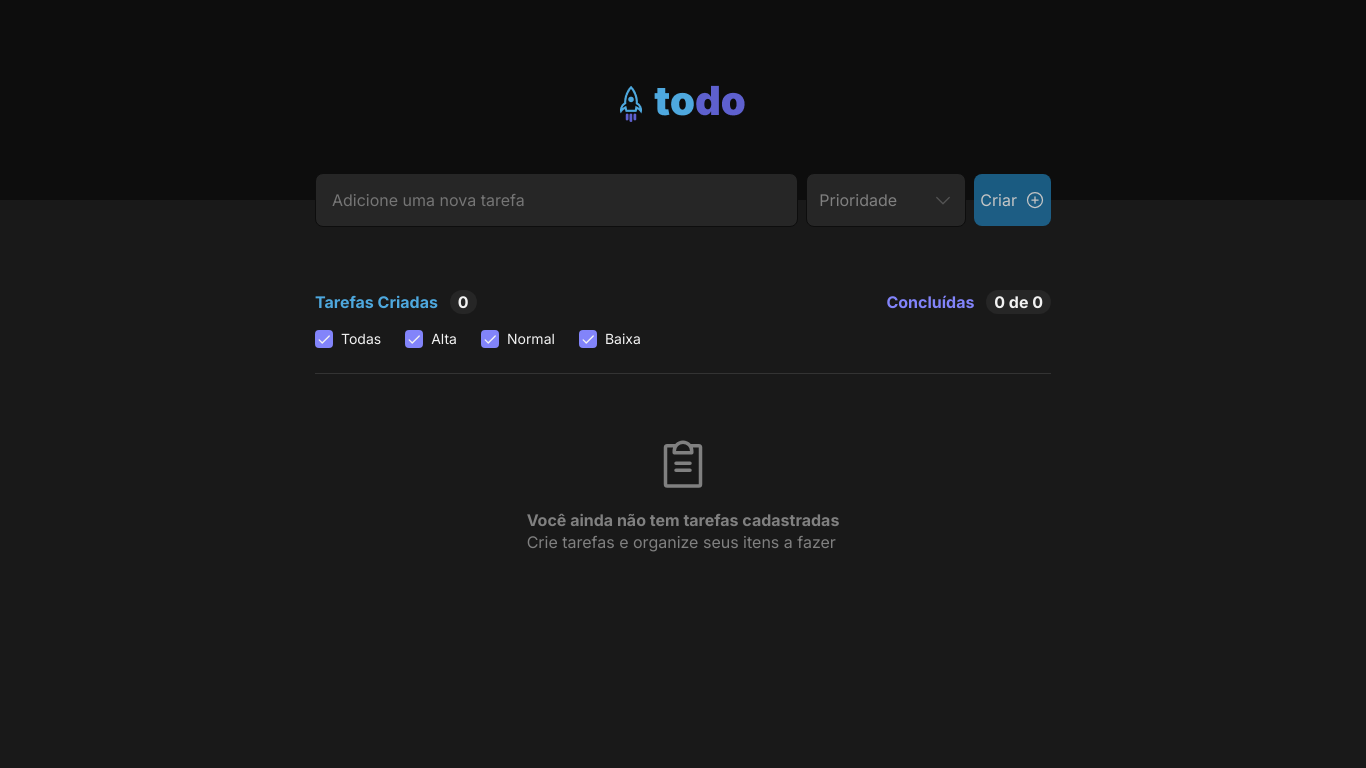
Scenario: Create new task › should be able to create a new task
Step 1. Type "Task test" into the field named "description" → x=557, y=200, box [315,173,798,227]
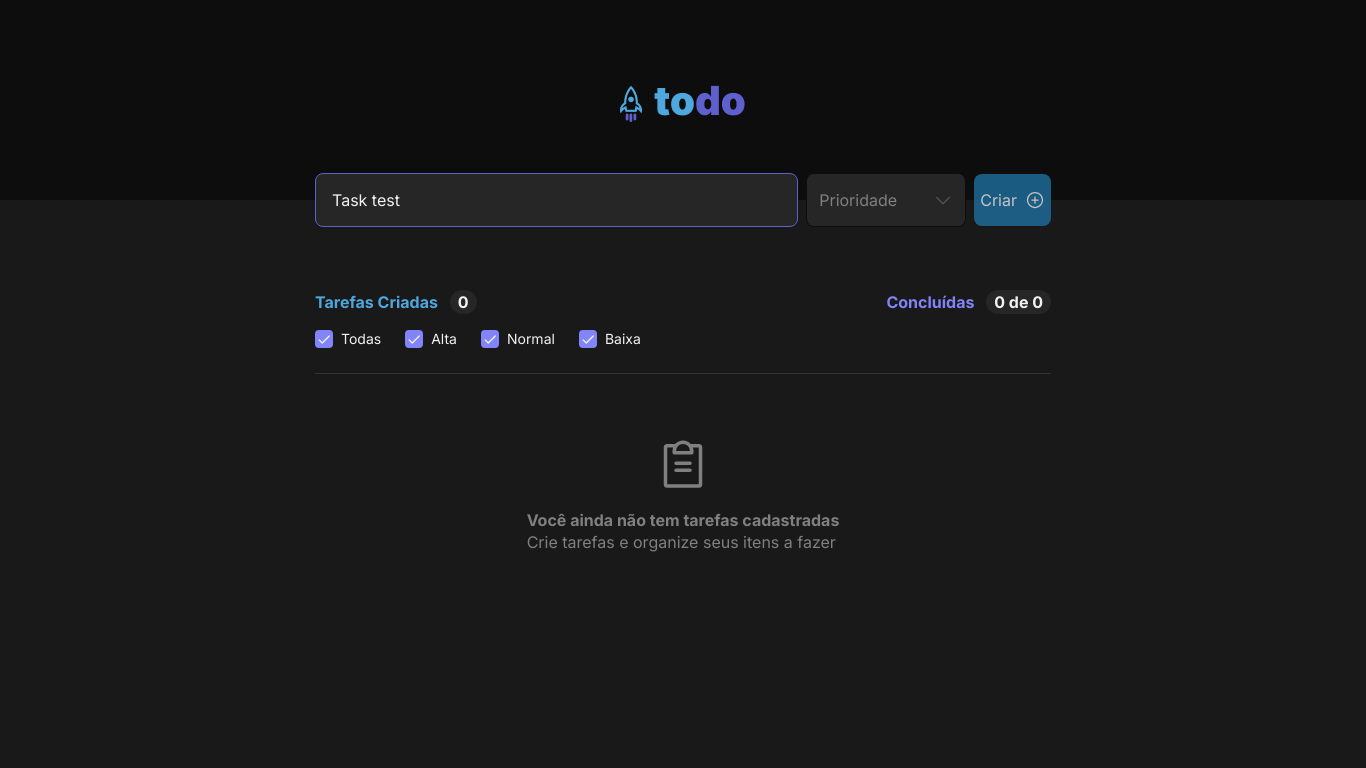
Step 2. Click the dropdown labelled "Prioridade" → x=886, y=200, box [806,173,966,227]
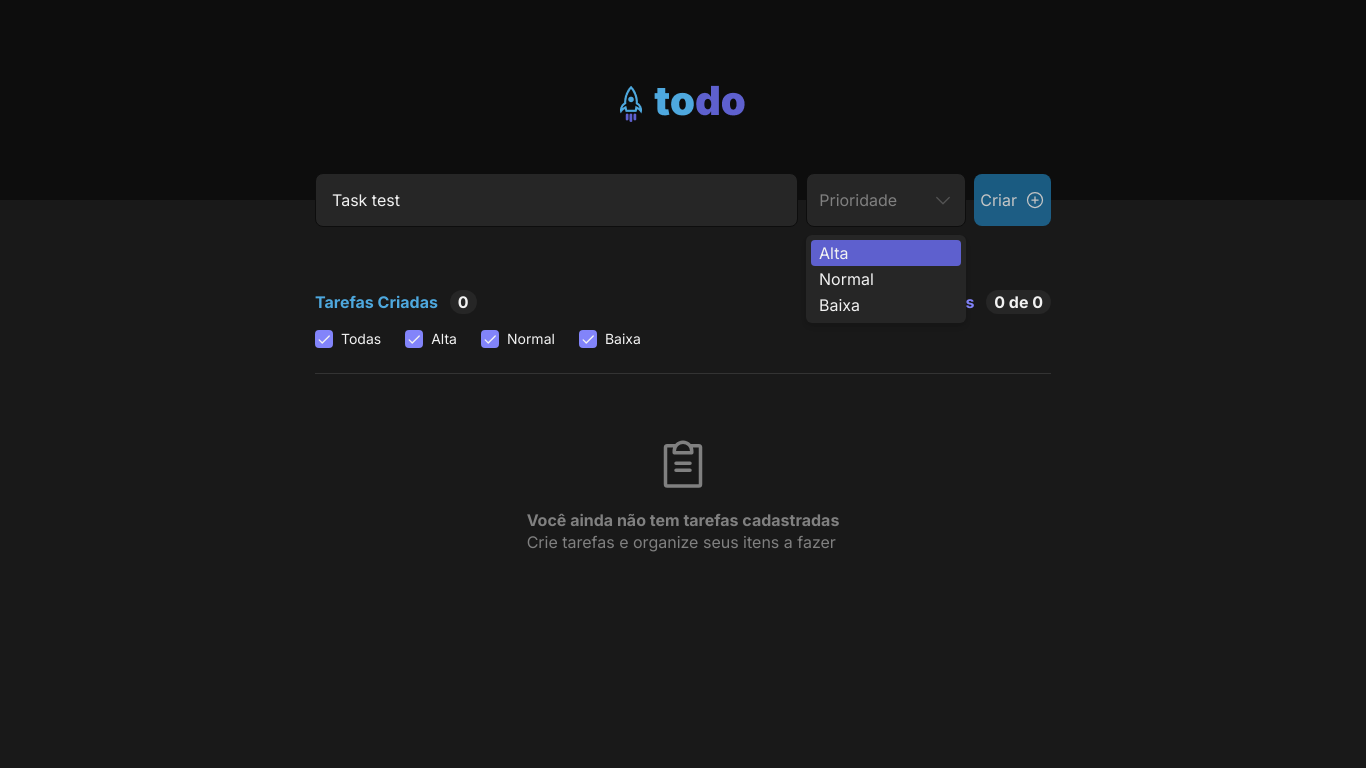
Step 3. Click the option with aria-label "Alta" → x=886, y=253, box [811,240,961,266]
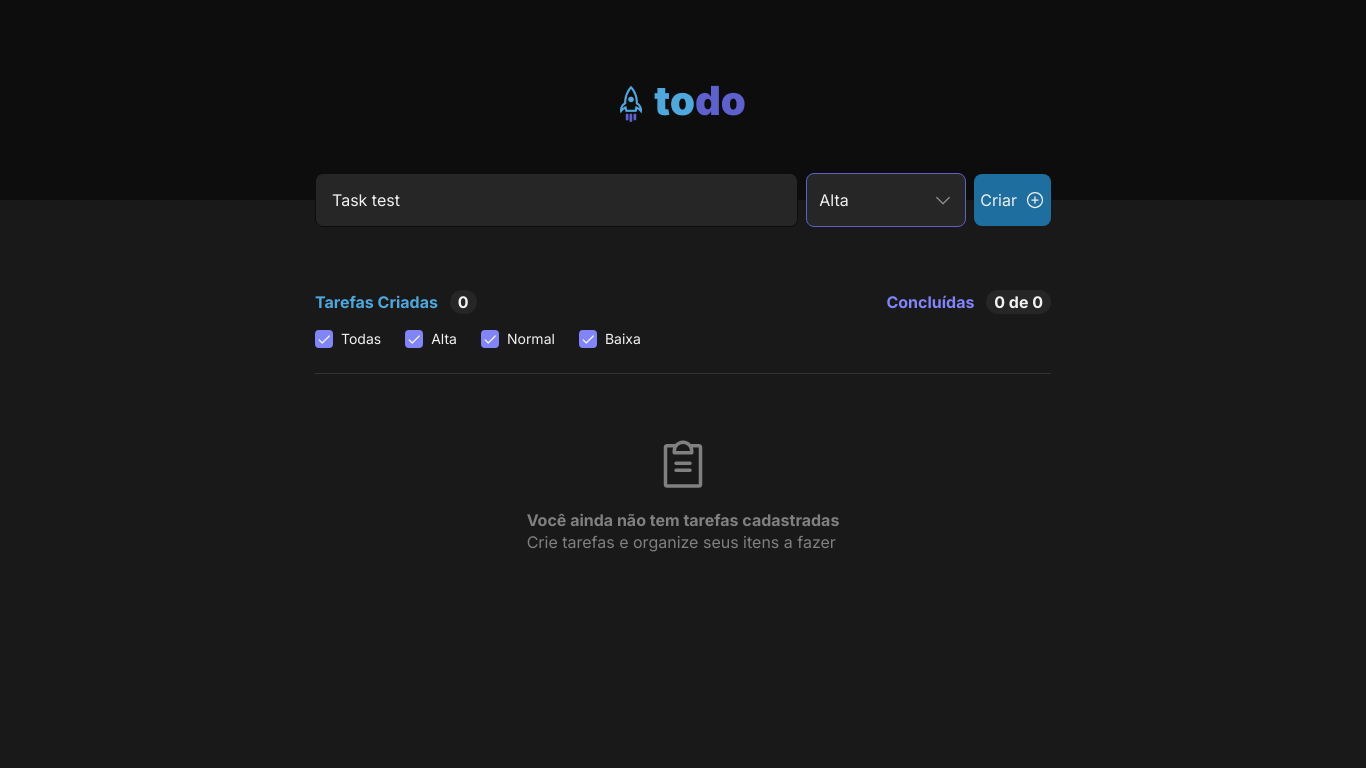
Step 4. Click the button "Criar" → x=1013, y=200, box [974,174,1051,226]
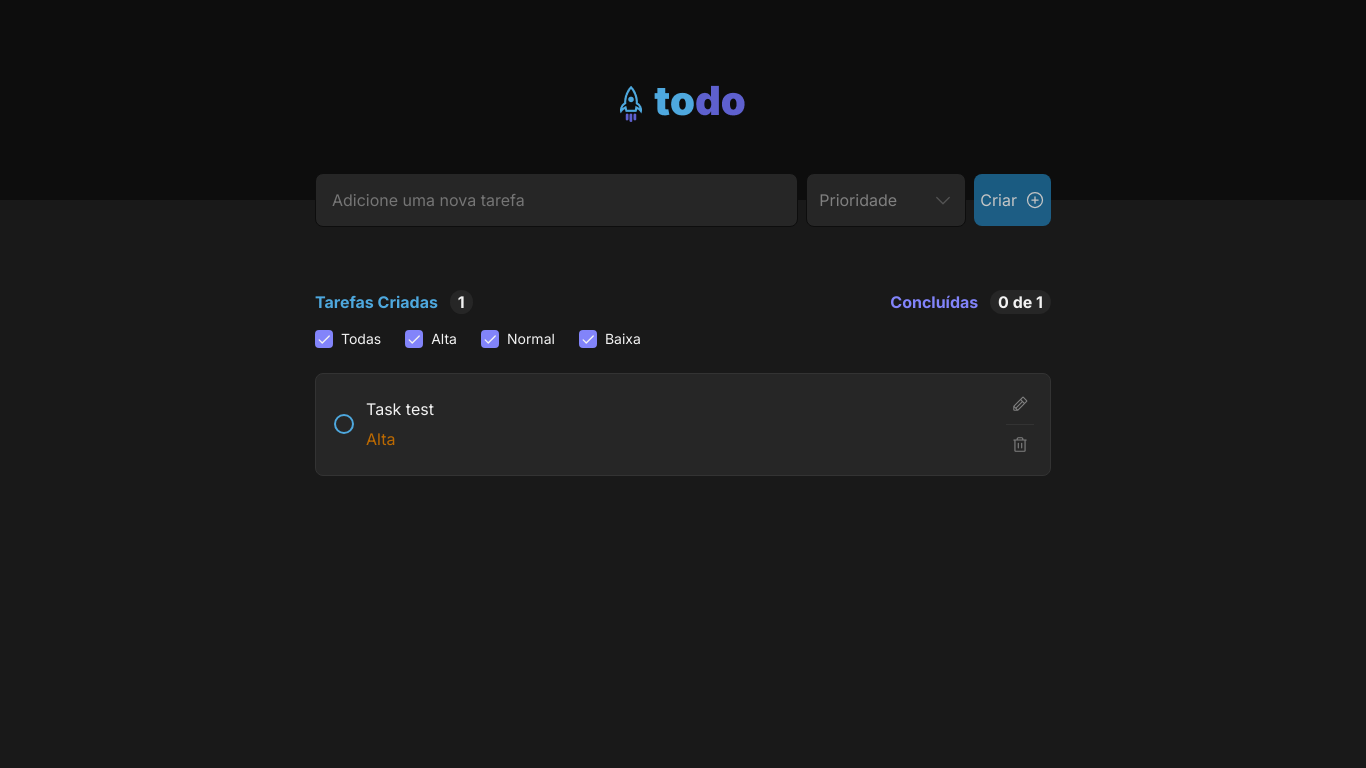
expect the text "Alta" is shown: met, box [366,430,396,450]
expect the text "Task test" is shown: met, box [366,399,434,419]
